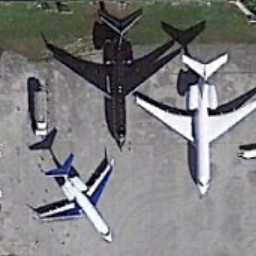Airplane: (36, 7, 186, 156), (134, 46, 256, 202), (25, 150, 130, 252)
